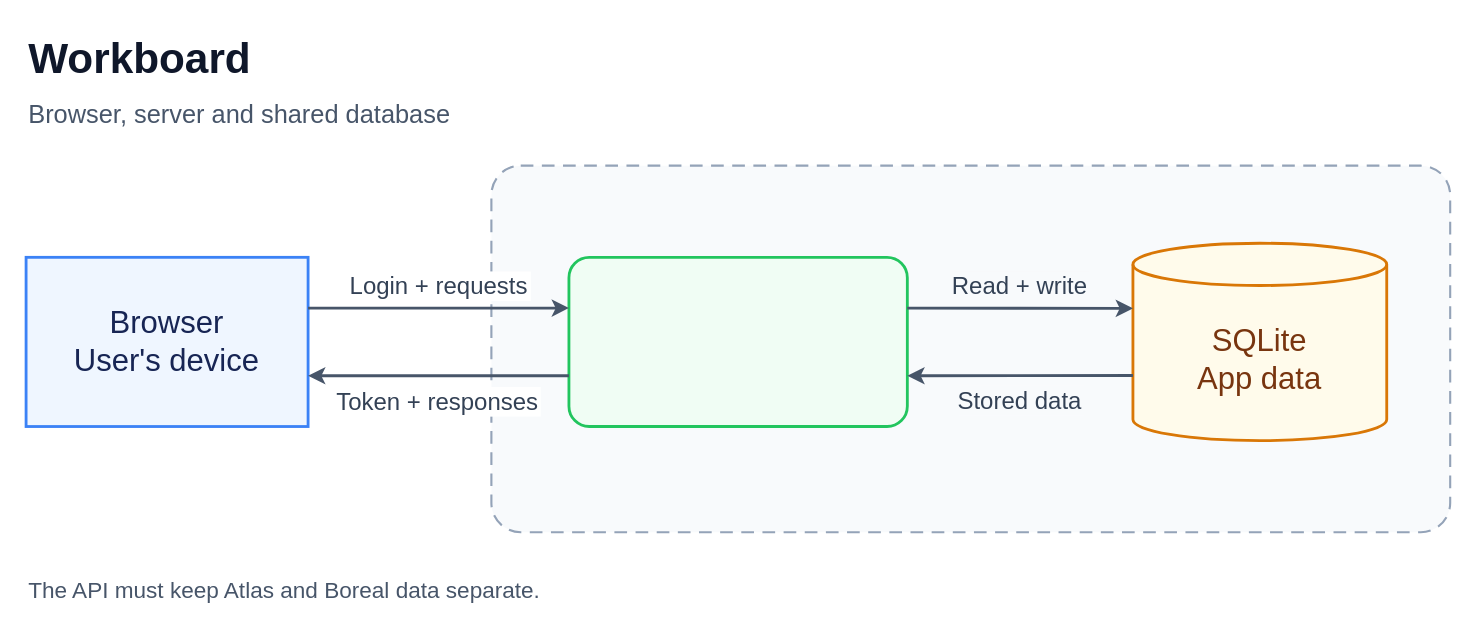
Image size: 1475x633. Some labels were removed from this diagram. The shapes that lost their labels are listed below. From the top down, each one's box as (x1, y1, x2, y2) in pixels, then its label:
(567, 255, 908, 427): FastAPI server Login + API routes
(490, 164, 1451, 533): Local Docker container
